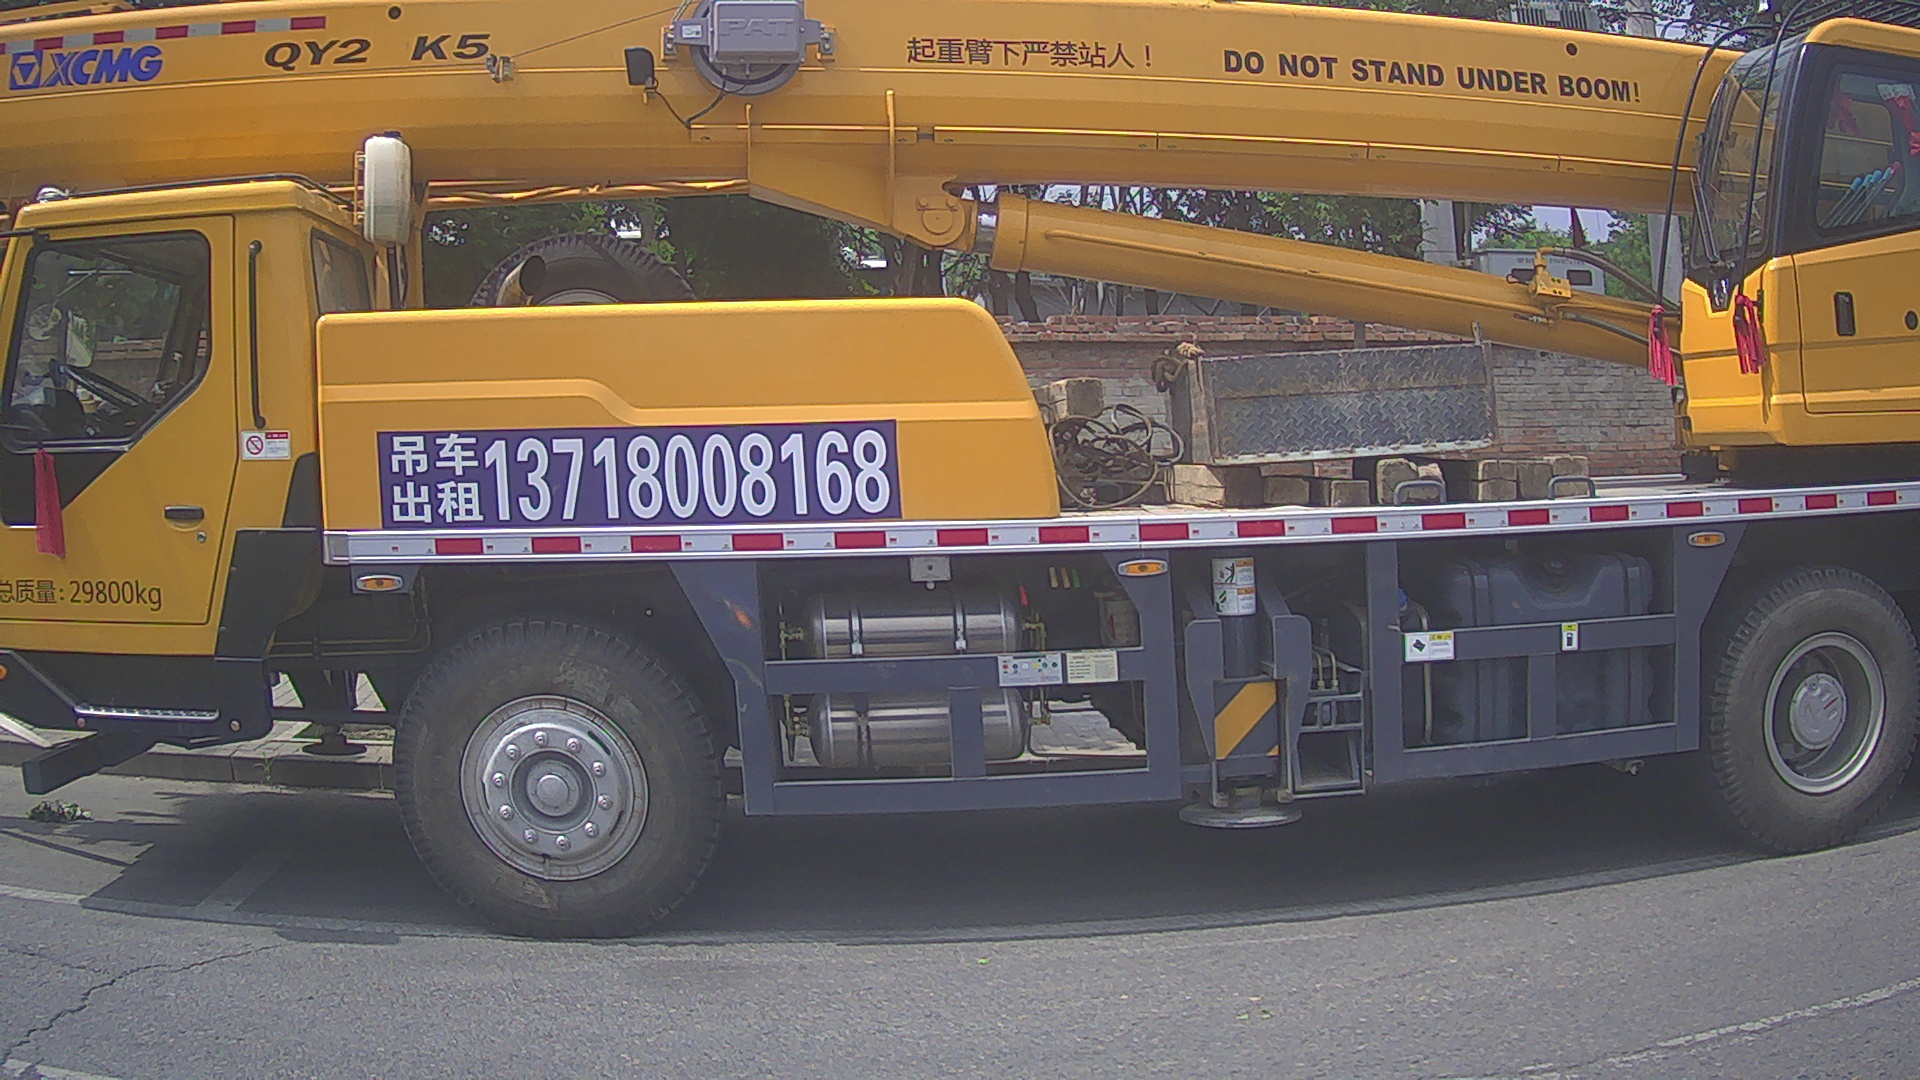truck: (0, 3, 1919, 940)
